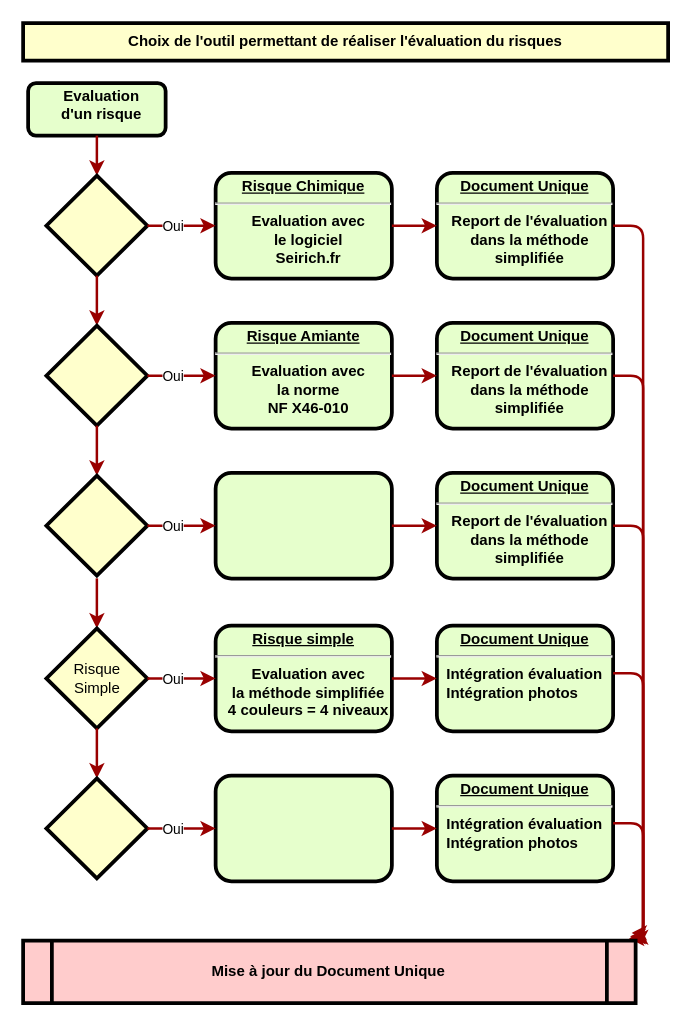
The diagram is 691 pixels wide and 1026 high, and some of its shapes have lost their labels. The box of each missing label's shape, as (x1, y1, x2, y2) in pixels:
Risque Amiante: (44, 323, 149, 427)
Risque Avancé: (44, 776, 149, 880)
Risque avancée Evaluation avec la méthode avancée basée sur les 5 critères: (213, 773, 393, 882)
Risque Chimique: (44, 173, 149, 277)
Risque RPS: (44, 473, 149, 577)
Risque RPS Evaluation avec l'outil 37 ou 10 de l'INRS: (213, 470, 393, 580)
